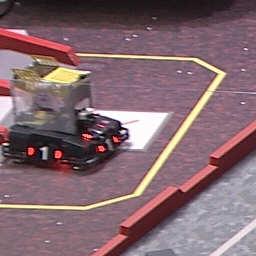Red: (26, 144, 61, 162), (97, 134, 120, 154), (82, 124, 107, 141)
Robot: (1, 56, 130, 172)
